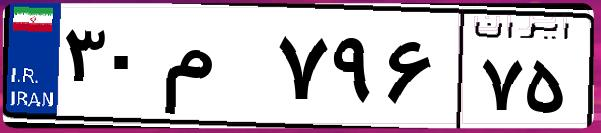0: (110, 28, 158, 98)
3: (57, 26, 110, 100)
5: (525, 38, 570, 115)
6: (385, 28, 445, 110)
7: (270, 28, 330, 110), (475, 38, 525, 113)
9: (330, 28, 385, 110)
م: (158, 20, 270, 120)
